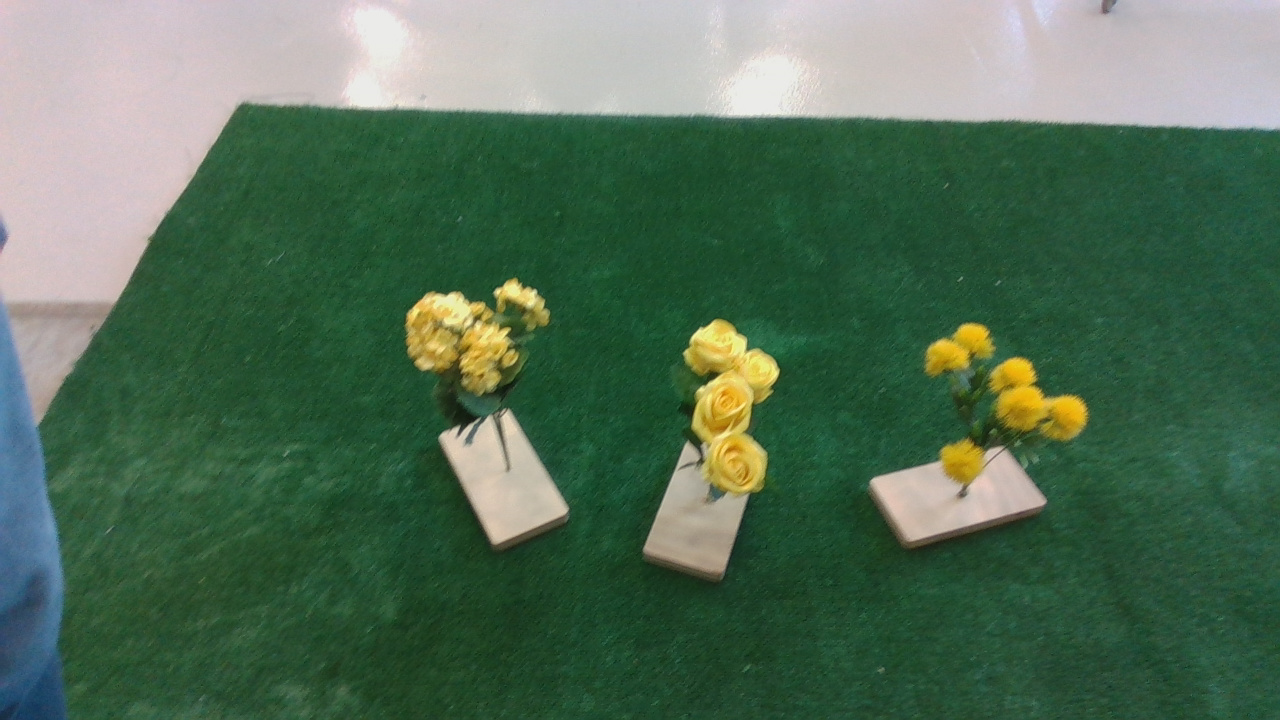dandelion: (907, 315, 1115, 489)
geranium: (387, 283, 576, 429)
rose: (678, 315, 798, 514)
